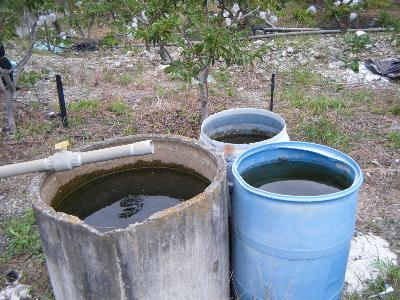bucket: (29, 132, 231, 300), (232, 140, 363, 300)
